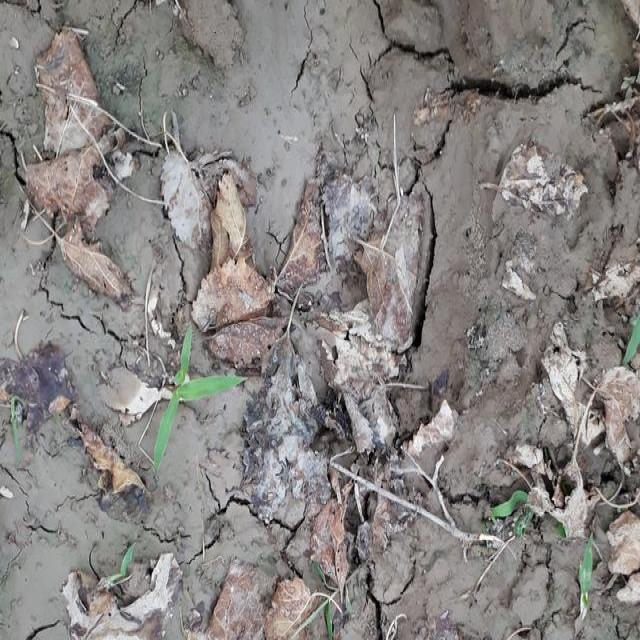weed: (140, 325, 233, 483)
